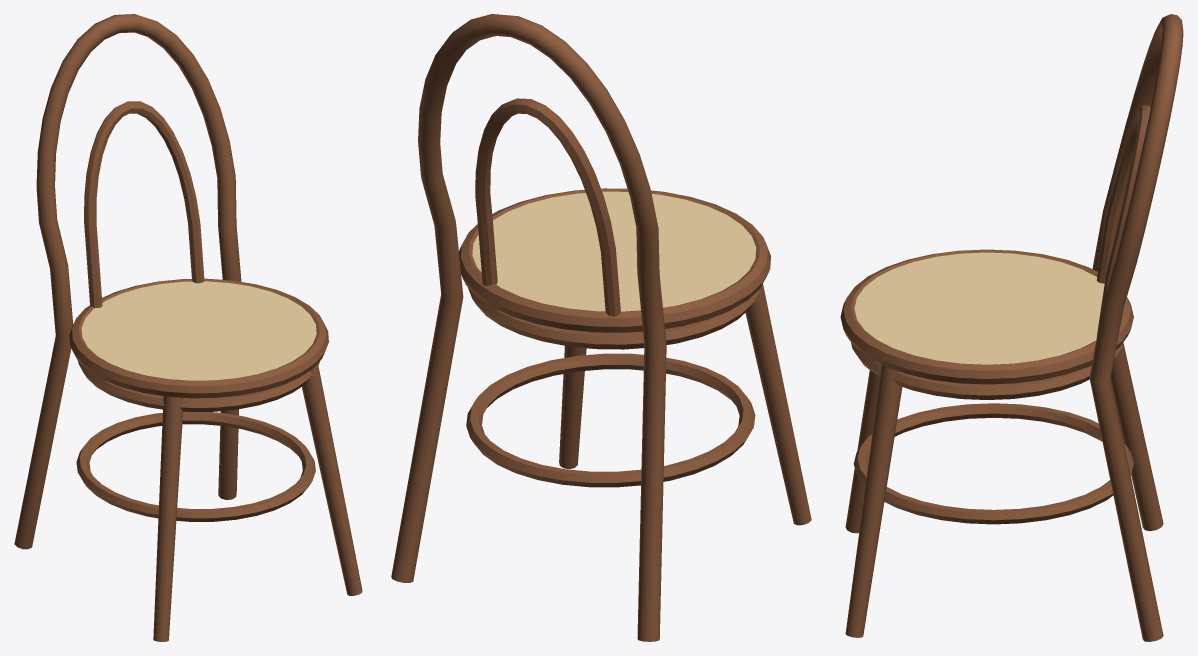
The model's file is cafe_chair.glb.
3 views of the same model, side by side, from view 1: azimuth 30°, elevation 25°; view 2: azimuth 150°, elevation 25°; view 3: azimuth 270°, elevation 25° (orthographic). The views are drawn at different scales.
Parts seen in each view (by area): view 1: walnut, rattan; view 2: walnut, rattan; view 3: walnut, rattan.
Part boxes in pixels (<box>): walnut: <box>14,14,362,641</box>; rattan: <box>81,281,316,380</box>; walnut: <box>391,14,811,641</box>; rattan: <box>472,191,756,311</box>; walnut: <box>840,14,1183,641</box>; rattan: <box>854,252,1104,364</box>.
Size of the model in its own units: 0.442 by 0.9351 by 0.5166.
